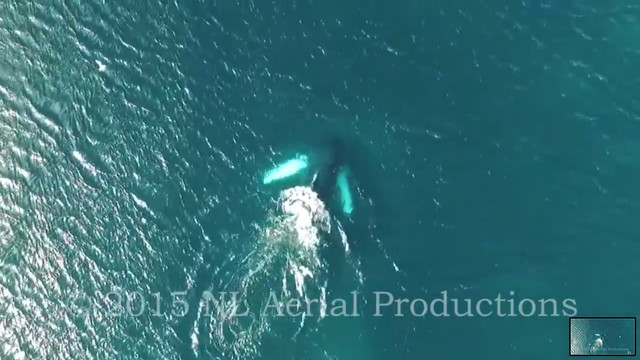whale: (254, 127, 360, 309)
